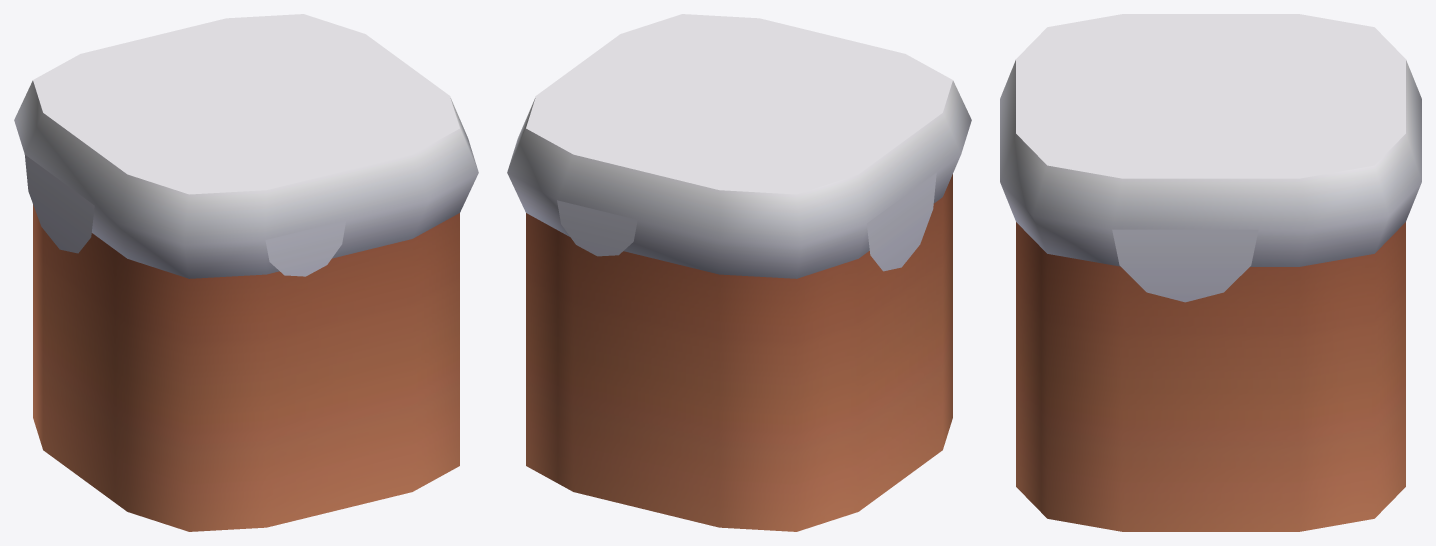
Rendered from kenney-platformer-block-snow-overhang-corner.glb.
3 views of the same model, side by side, from view 1: azimuth 30°, elevation 25°; view 2: azimuth 150°, elevation 25°; view 3: azimuth 270°, elevation 25° (orthographic). The views are drawn at different scales.
Visible parts, largest first — view 1: block-snow-overhang-corner; view 2: block-snow-overhang-corner; view 3: block-snow-overhang-corner.
Boxes of the visible parts, box(x1,y1,x2,y2) form: block-snow-overhang-corner: box(14, 14, 478, 531); block-snow-overhang-corner: box(507, 14, 971, 531); block-snow-overhang-corner: box(1000, 14, 1421, 531).
Bounding box in the file's own units: 1.08 × 1 × 1.08.
Materials: 1 (1 with a texture image).
